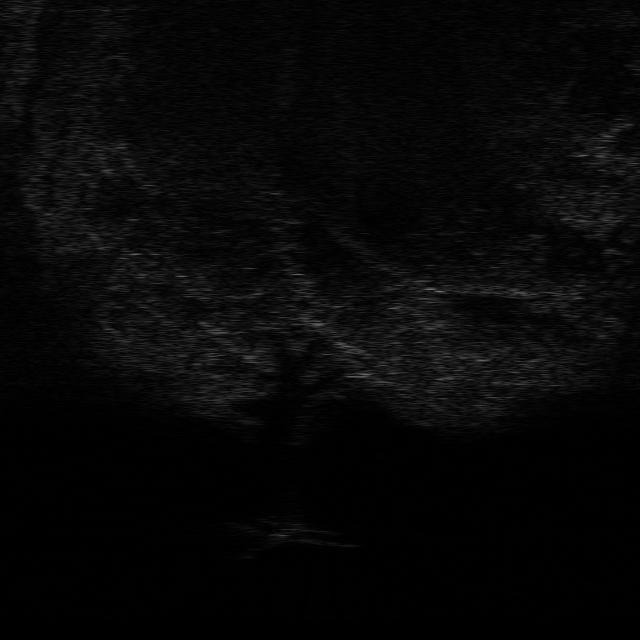plane: (235, 517, 361, 558)
